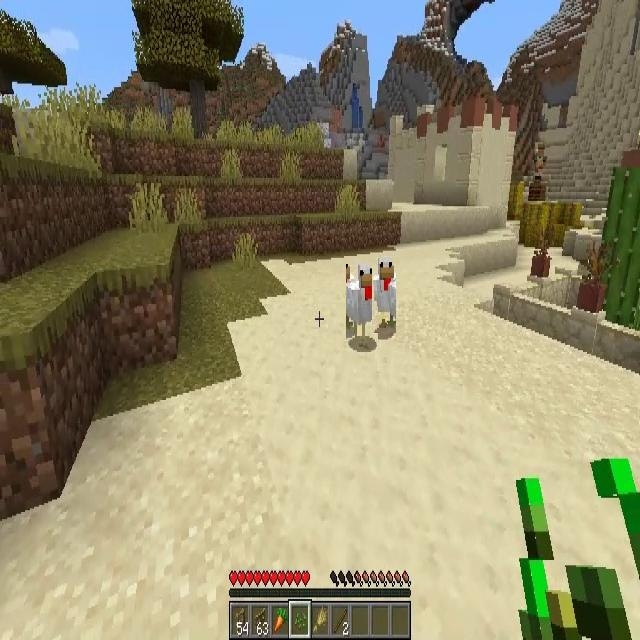duck: (346, 264, 378, 342), (372, 258, 396, 334)
